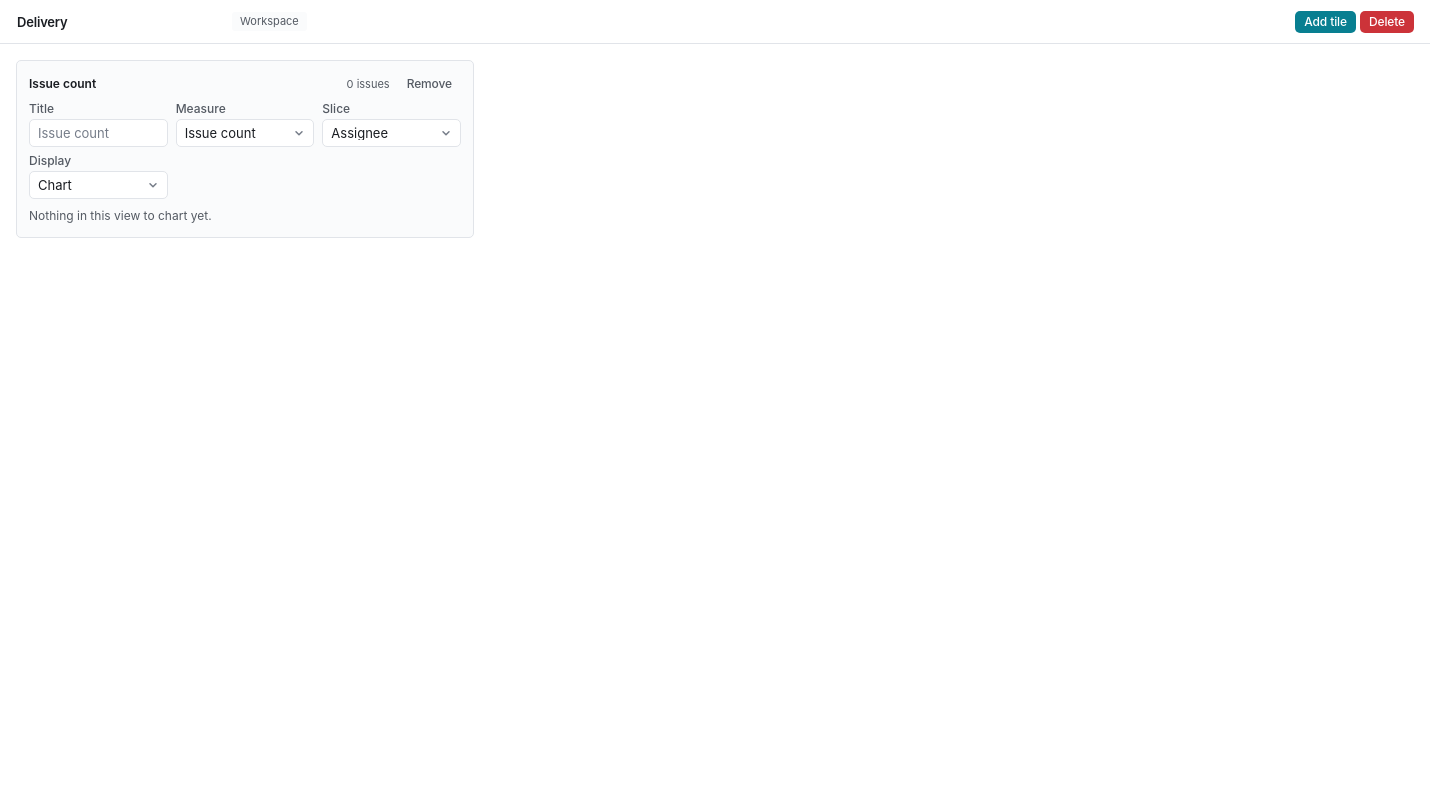
DashboardDetail › says so when the server refuses a delete, rather than navigating away regardless
The width and height of the screenshot is (1440, 810).
Step 1. Click the button "Delete" → coordinates (1387, 22), box left=1360, top=10, right=1414, bottom=32
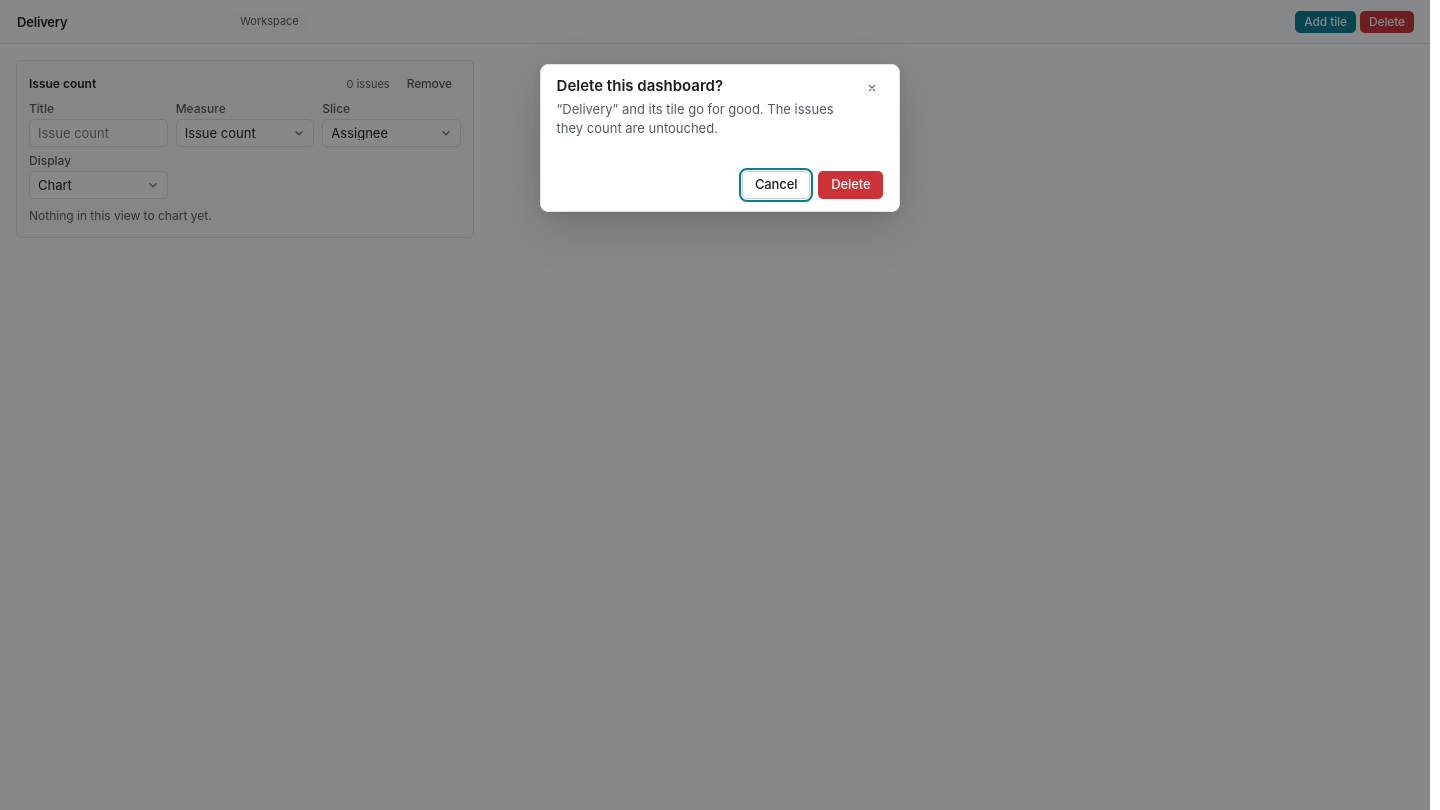
Step 2. Click the button "Delete" → coordinates (851, 185), box left=818, top=171, right=883, bottom=199
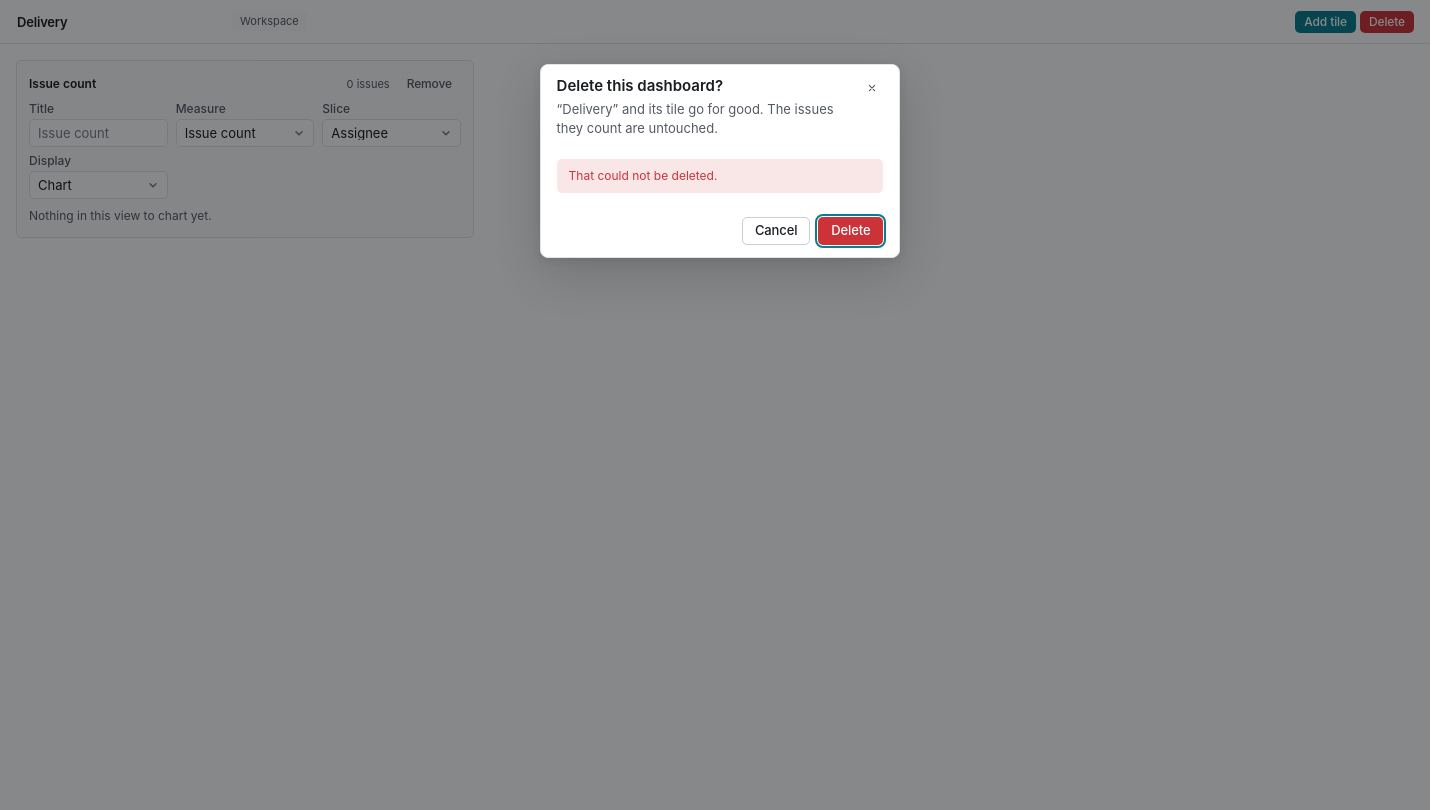
Expected: the field named "Dashboard name" is shown, left=17, top=14, right=223, bottom=30
Result: the message reads "That could not be deleted." at left=569, top=168, right=717, bottom=183
